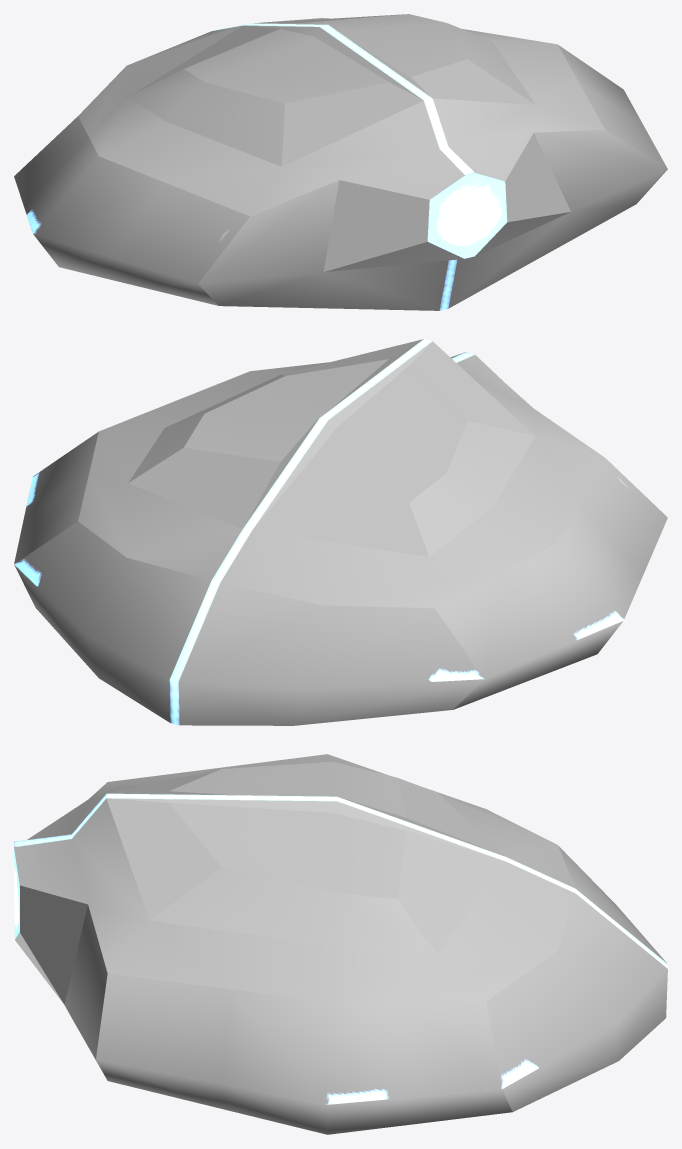
File: alienship_1.fbx
3 views of the same model, one above another, from view 1: azimuth 30°, elevation 25°; view 2: azimuth 150°, elevation 25°; view 3: azimuth 270°, elevation 25° (orthographic). The views are drawn at different scales.
Parts seen in each view (by area): view 1: pCube3; view 2: pCube3; view 3: pCube3.
Boxes of the visible parts, x1,y1,x2,y2 form: pCube3: [14, 14, 667, 310]; pCube3: [14, 339, 667, 725]; pCube3: [14, 754, 667, 1134].
Size of the model in its own units: 17.02 by 6.25 by 14.76.
